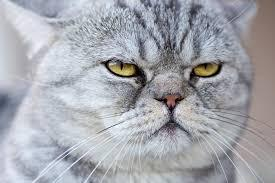Cat: (83, 28, 248, 158)
